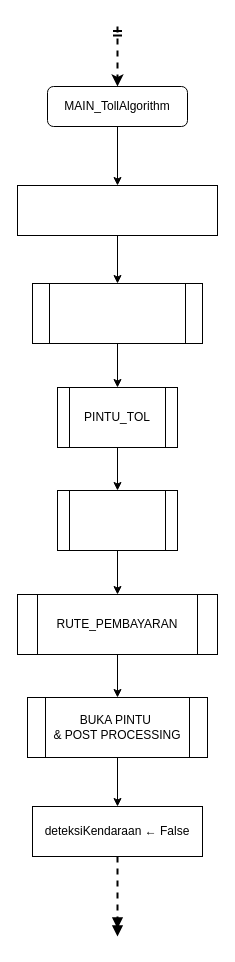
The diagram is 235 pixels wide and 962 high, and some of its shapes have lost their labels. The shapes that lost their labels are listed below. From the top down, each one's centre as x and y in pixels, then its label:
At (117,210): "status ← STATUS_INVALID".
At (117,313): "INPUT_KENDARAAN".
At (117,520): "E_MONEY".
